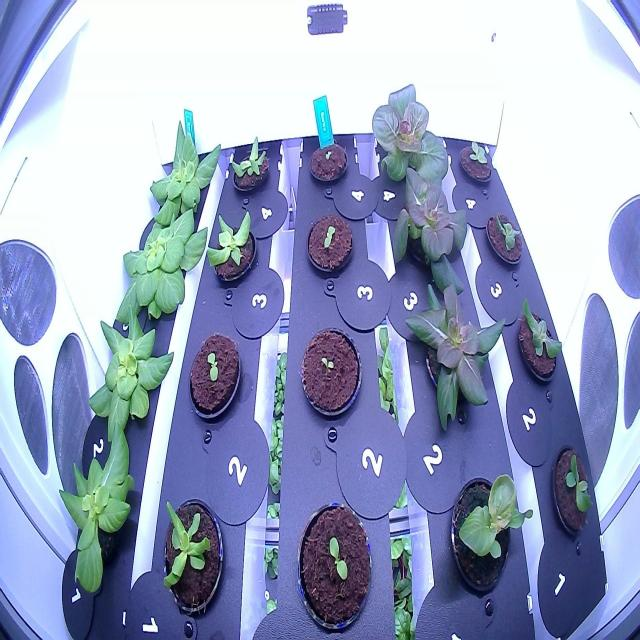germination: (289, 494, 378, 632), (297, 318, 366, 430), (184, 323, 244, 428), (304, 206, 356, 286), (305, 131, 351, 191)
young: (50, 418, 153, 602), (397, 275, 511, 440), (442, 453, 540, 617), (78, 295, 180, 448), (108, 186, 208, 330), (384, 158, 476, 302), (366, 71, 454, 198), (153, 486, 230, 623), (144, 102, 227, 225), (201, 200, 260, 297), (512, 291, 568, 390), (548, 436, 596, 551), (480, 194, 528, 278), (226, 126, 274, 201), (451, 129, 497, 196)
